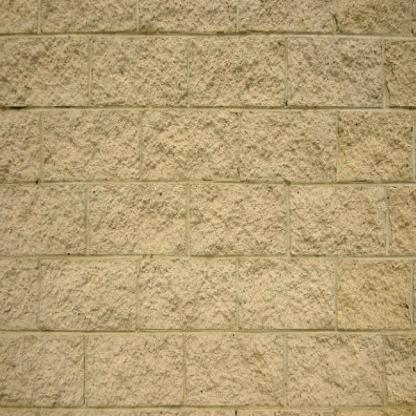Sedimentary_Sandstone: (82, 172, 195, 254), (234, 94, 341, 178), (186, 168, 291, 253), (82, 326, 189, 406), (141, 100, 246, 177), (184, 327, 289, 403), (284, 32, 390, 106), (290, 181, 390, 257)
